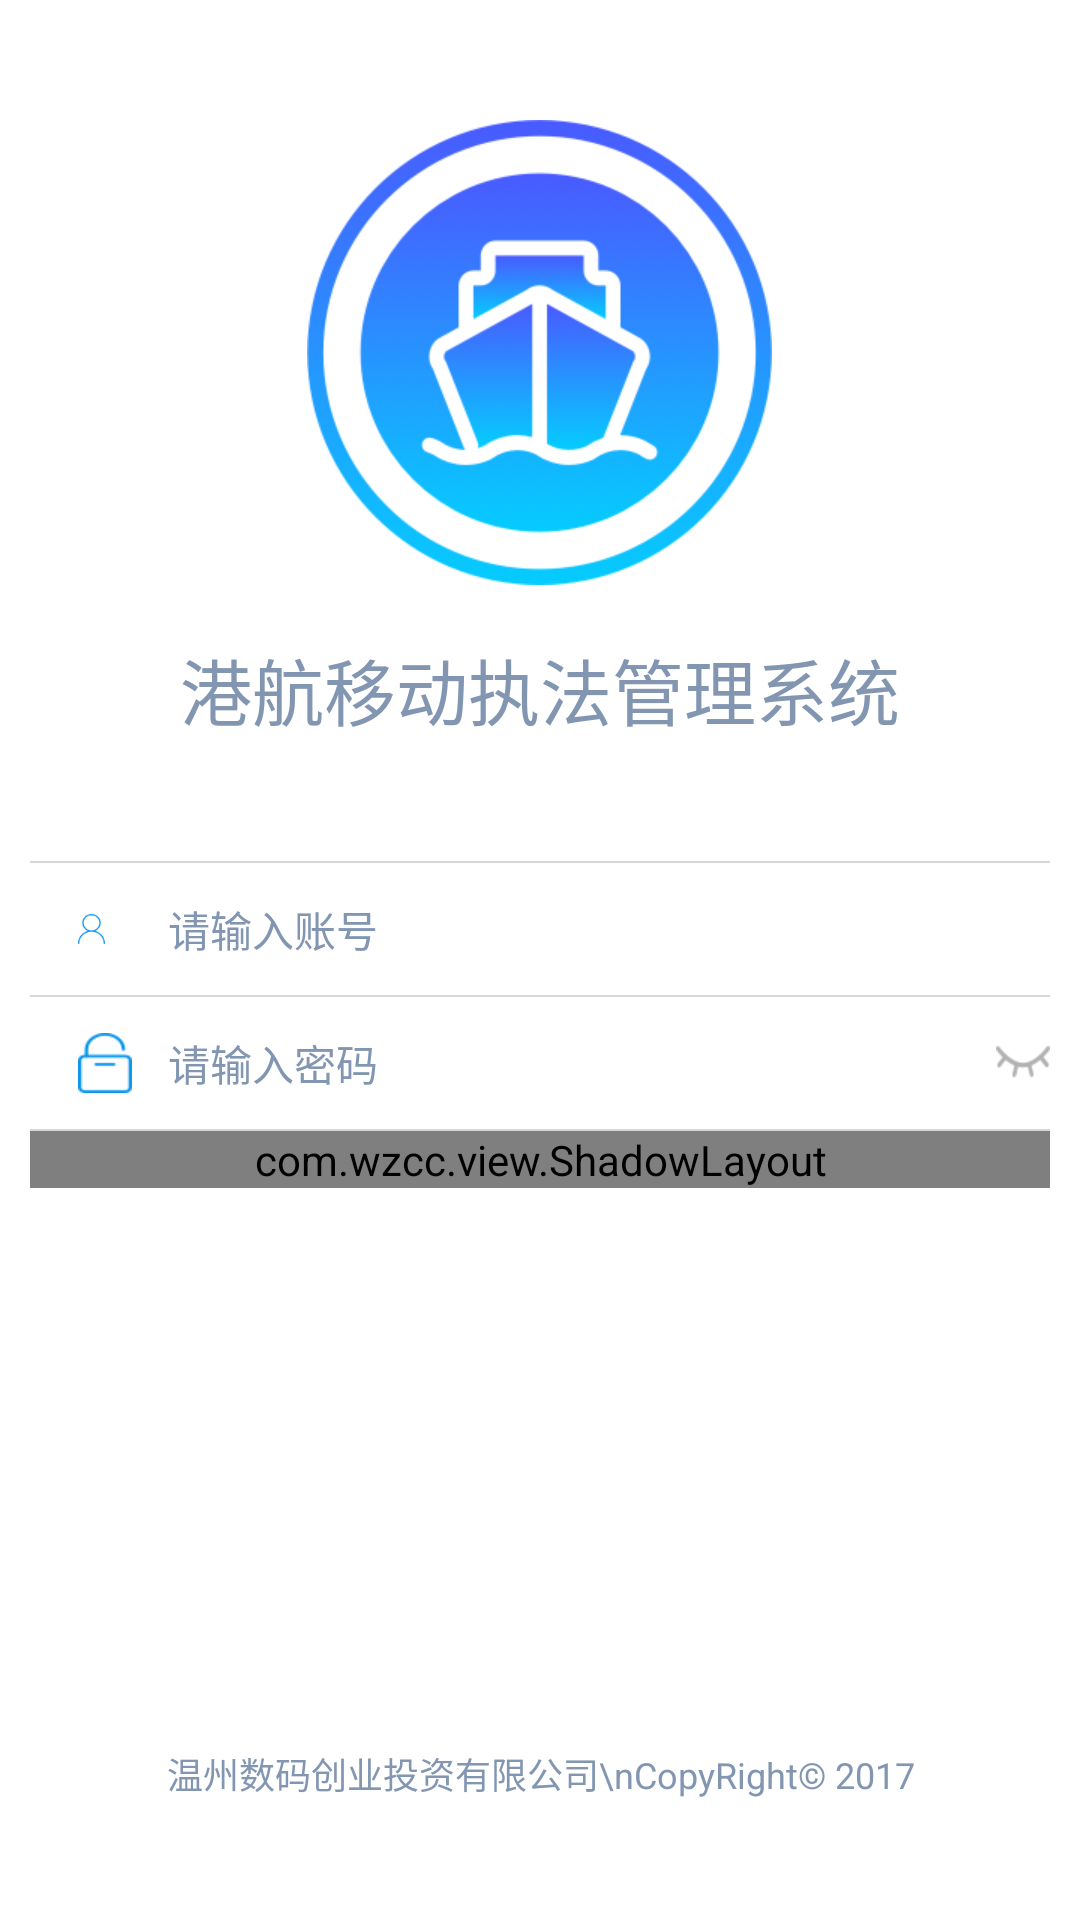

Screen size 1080px×1920px. Icon name, then its center in pixels as [x,y]:
password: [105,1063]
showpwd: [1023,1061]
